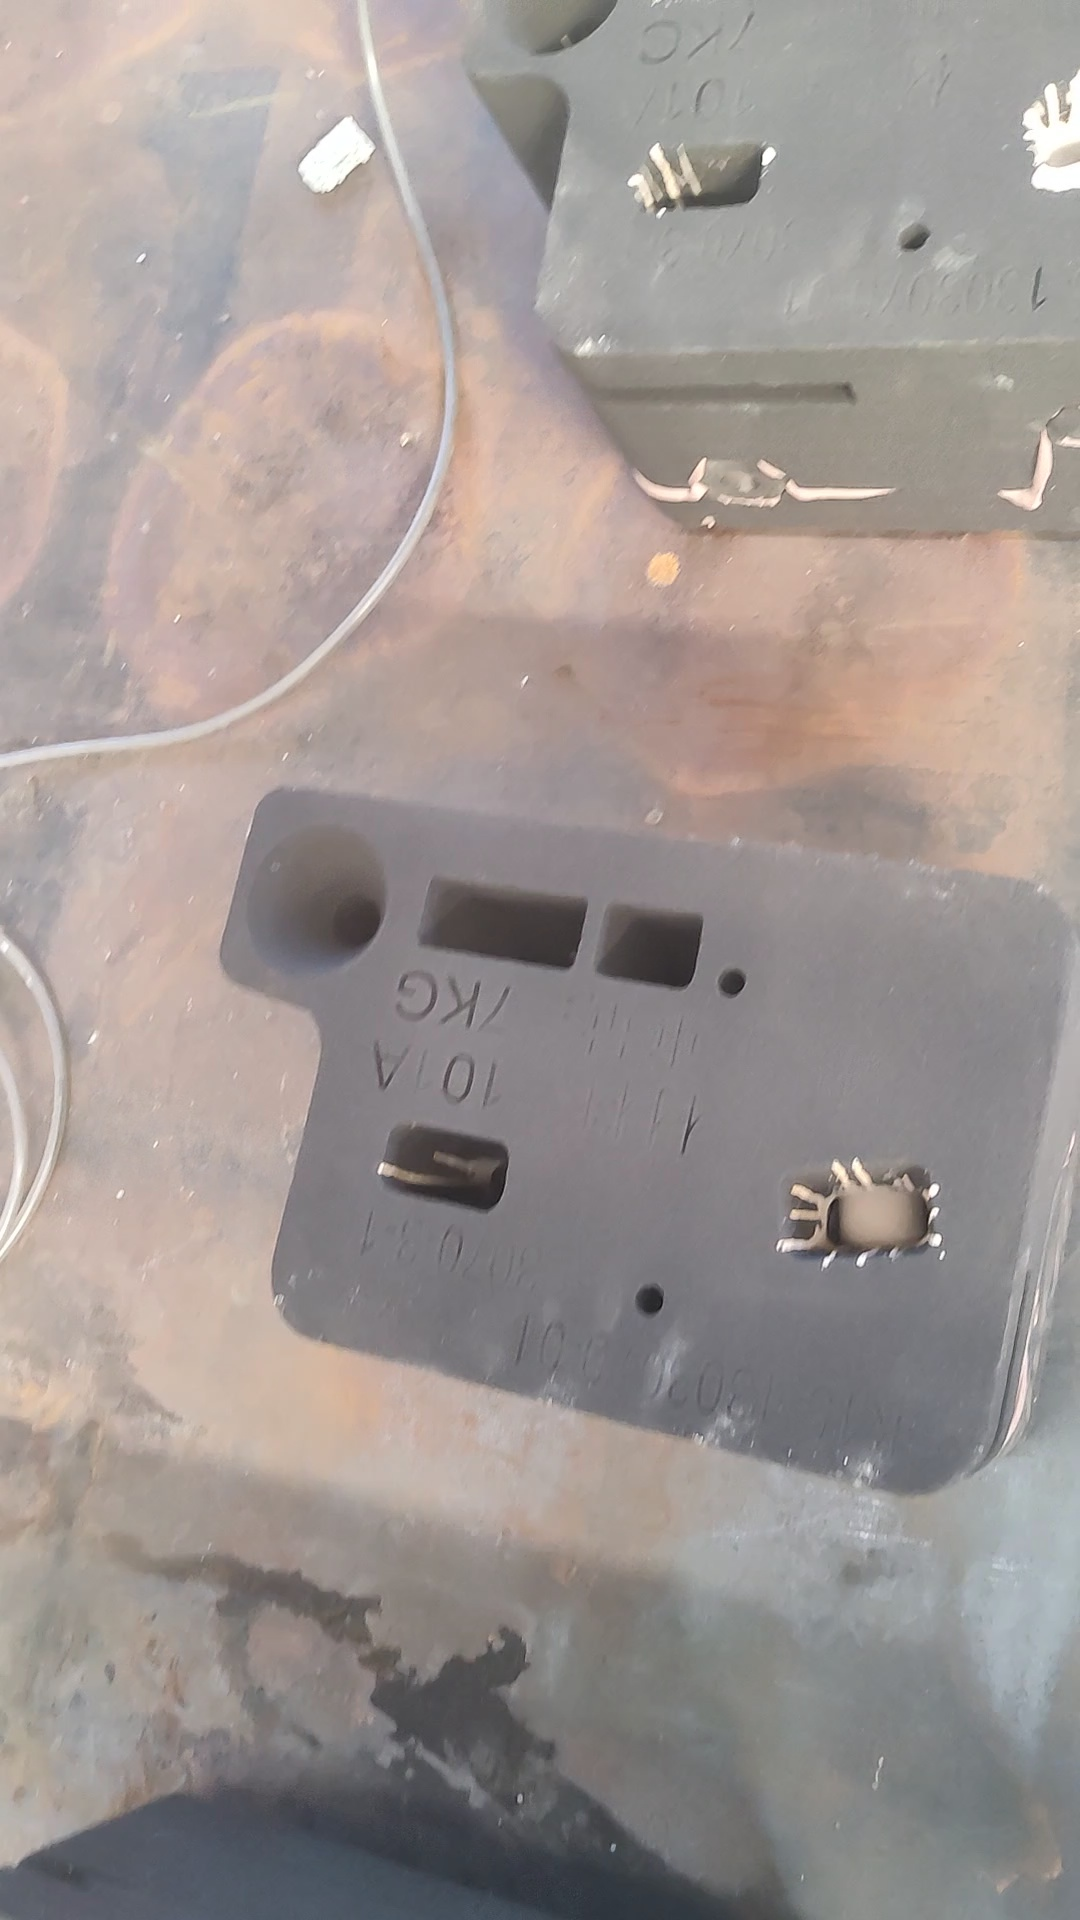pouring hole: (247, 822, 386, 977), (497, 1, 609, 59)
